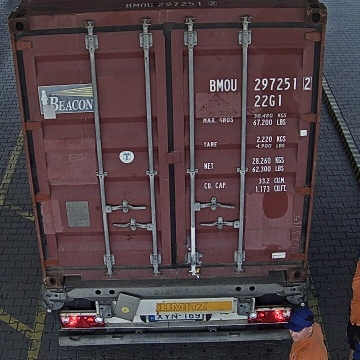serial_id: (210, 77, 311, 91)
